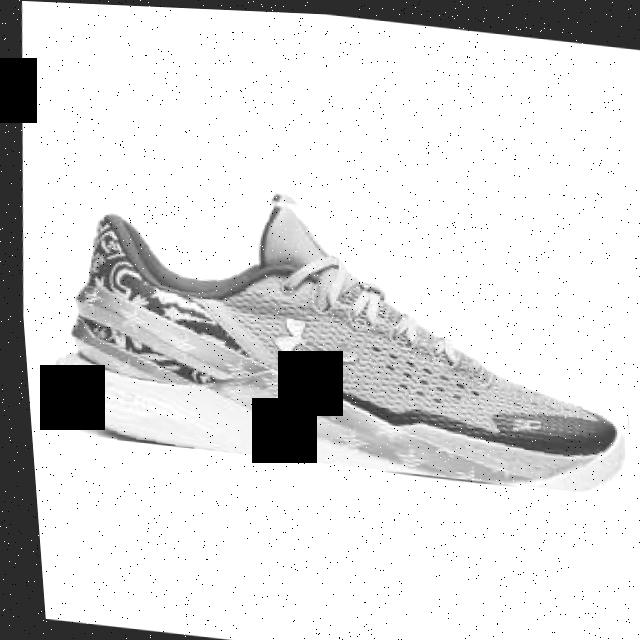shoe: (32, 163, 640, 493)
